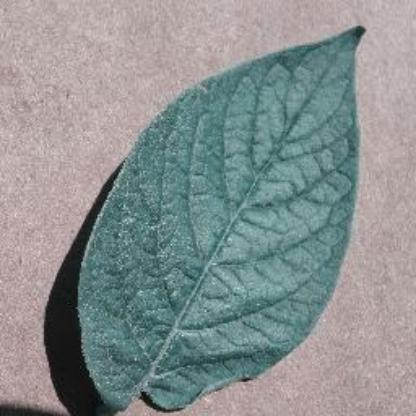Healthy-plant: (62, 19, 390, 415)
